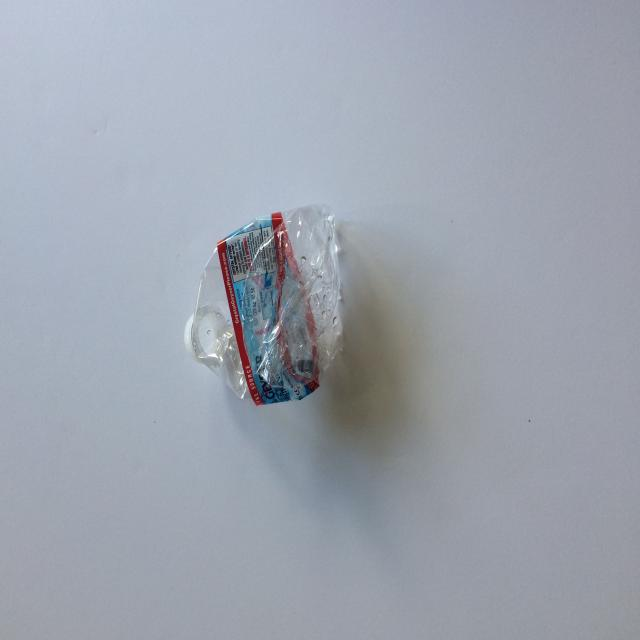plastic: (185, 203, 345, 406)
